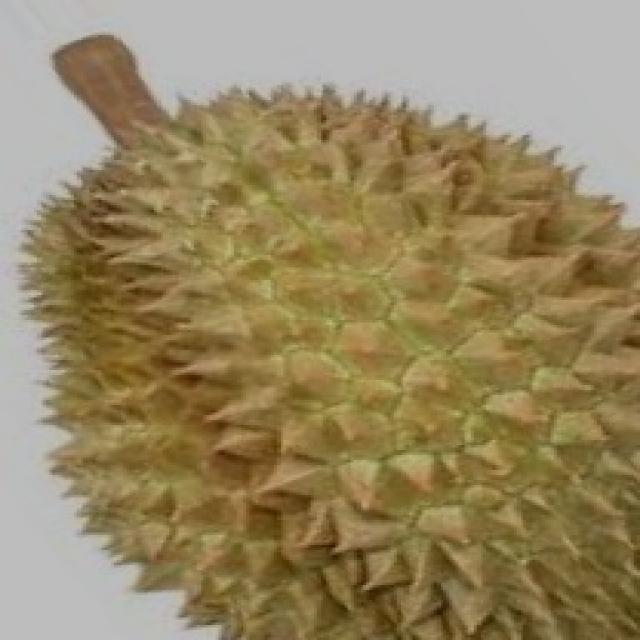fruit: (0, 212, 366, 638)
